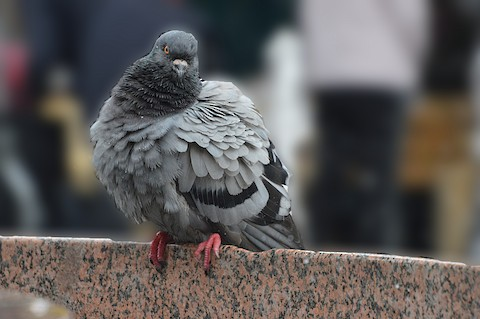pigeon: (89, 27, 308, 275)
